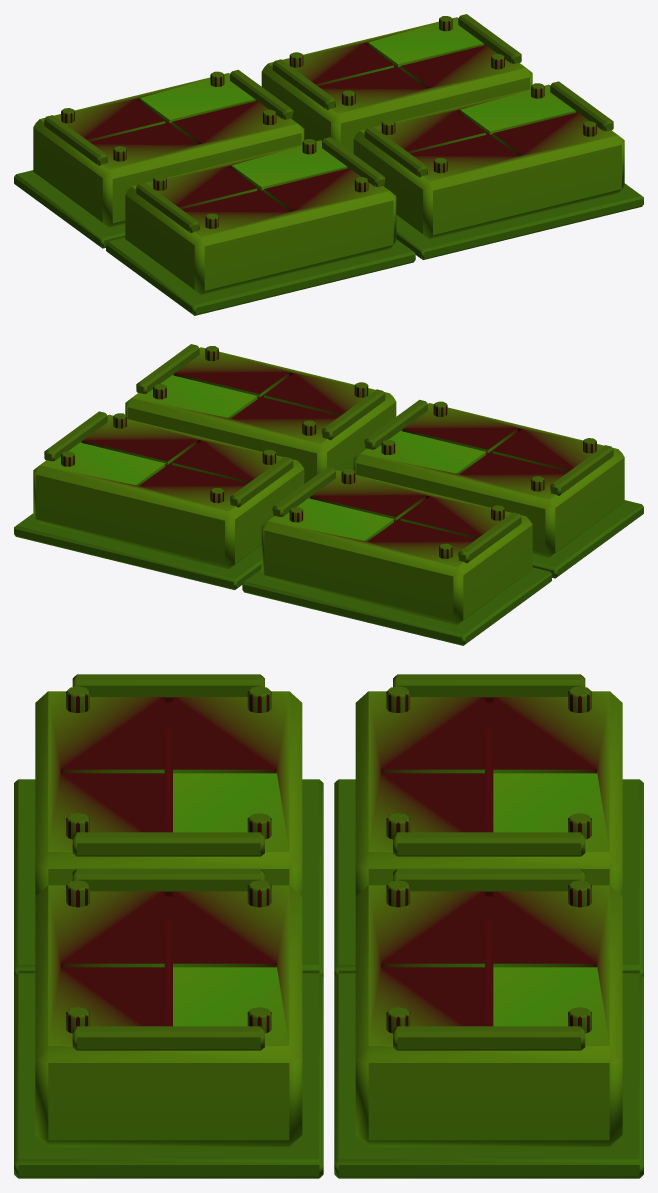
The model's file is RCLModule_scout_tank_gunmetal_chassis_era.fbx.
3 views of the same model, one above another, from view 1: azimuth 30°, elevation 25°; view 2: azimuth 150°, elevation 25°; view 3: azimuth 270°, elevation 25° (orthographic). The views are drawn at different scales.
Parts seen in each view (by area): view 1: RCLModule_scout_tank_gunmetal_chassis_era_Batch_RCLModuleMat (×2); view 2: RCLModule_scout_tank_gunmetal_chassis_era_Batch_RCLModuleMat (×2); view 3: RCLModule_scout_tank_gunmetal_chassis_era_Batch_RCLModuleMat (×2).
Boxes of the visible parts, x1,y1,x2,y2 form: RCLModule_scout_tank_gunmetal_chassis_era_Batch_RCLModuleMat (×2): (14, 14, 643, 315); RCLModule_scout_tank_gunmetal_chassis_era_Batch_RCLModuleMat (×2): (14, 344, 643, 645); RCLModule_scout_tank_gunmetal_chassis_era_Batch_RCLModuleMat (×2): (14, 674, 643, 1178).
Size of the model in its own units: 42.5 by 7.1 by 29.5.
